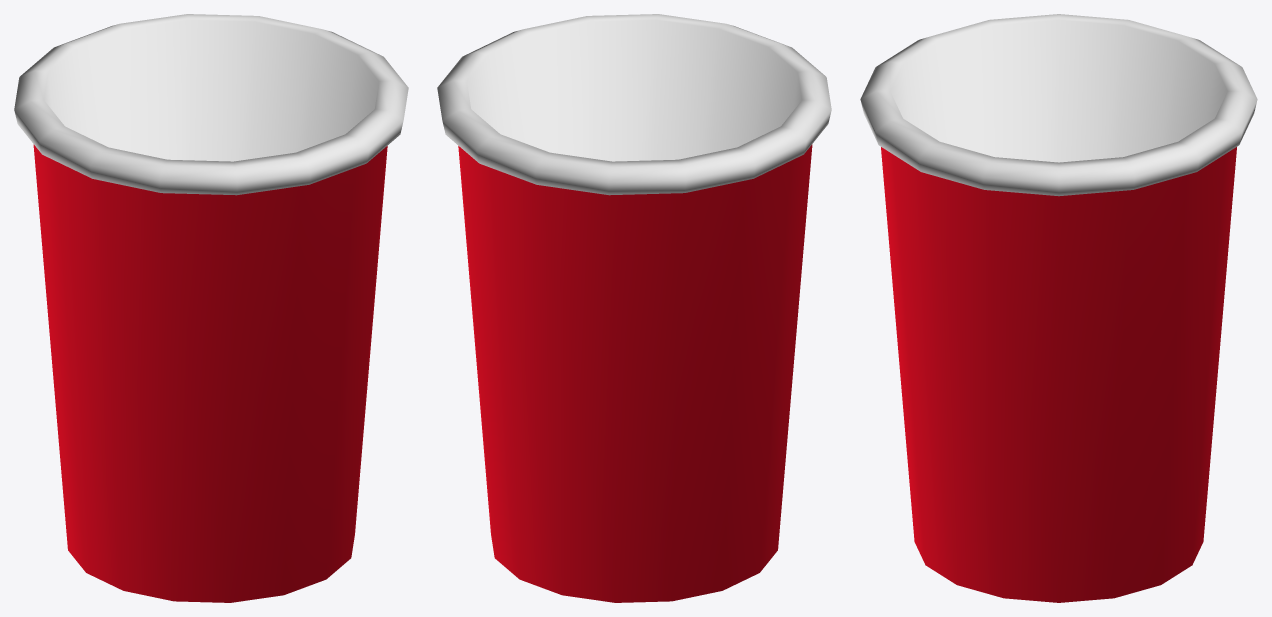
The model's file is BeerPongGlass 1.fbx.
3 renders of one model, left to right at view 1: azimuth 30°, elevation 25°; view 2: azimuth 150°, elevation 25°; view 3: azimuth 270°, elevation 25°, orthographic.
Parts seen in each view (by area): view 1: Cylinder.002; view 2: Cylinder.002; view 3: Cylinder.002.
Part boxes in pixels (x1=…): Cylinder.002: x1=14, y1=14, x2=408, y2=602; Cylinder.002: x1=437, y1=14, x2=831, y2=602; Cylinder.002: x1=860, y1=14, x2=1257, y2=602.
Bounding box in the file's own units: 18.57 × 23.25 × 18.57.
